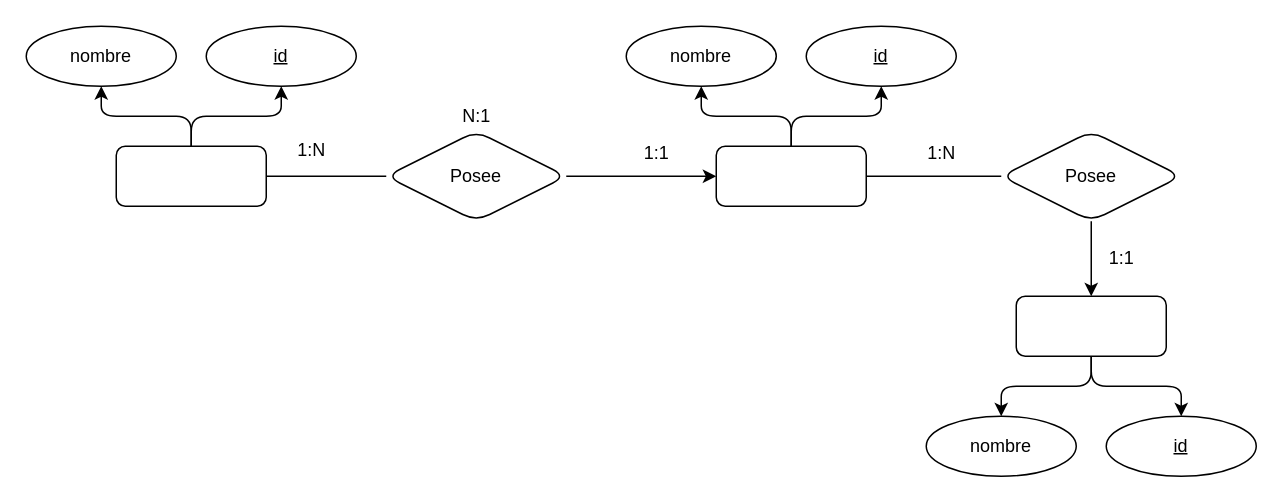
This 1283x503 diagram has some shape labels left out. The shapes that lost their labels are listed below. From the top down, each one's centre as x and y in pixels, then its label:
point 190,175: Provincia
point 790,175: Ciudad
point 1090,325: Comercio
